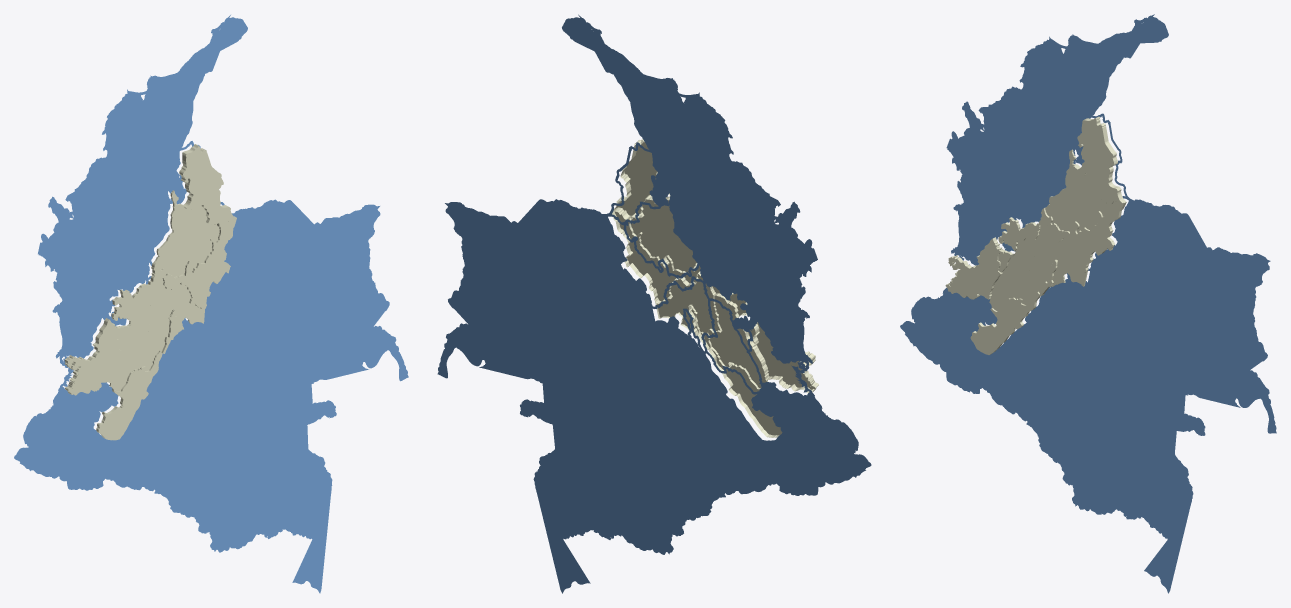
File: mapa-colombia.glb
3 renders of one model, left to right at view 1: azimuth 30°, elevation 25°; view 2: azimuth 150°, elevation 25°; view 3: azimuth 330°, elevation 25°, orthographic. The views are drawn at different scales.
Parts seen in each view (by area): view 1: Curve.010, Curve.022, Curve.040, Curve.050, Curve.006, Curve.028, Curve.044, Curve.008, Curve.004, Curve.048, Santander, Curve (+28 smaller); view 2: Curve.010, Curve.022, Curve.040, Curve.050, Curve.006, Curve.028, Curve.044, Curve.008, Curve.004, Curve.048, Curve, Curve.024 (+33 smaller); view 3: Curve.010, Curve.022, Curve.040, Curve.050, Curve.006, Curve.028, Curve.044, Curve.008, Curve.004, Curve.048, Curve, Santander (+29 smaller).
Boxes of the visible parts, box(x1,y1,x2,y2) form: Curve.010: box(169, 450, 330, 590); Curve.022: box(265, 206, 379, 352); Curve.040: box(104, 382, 266, 489); Curve.050: box(152, 283, 268, 416); Curve.006: box(276, 286, 406, 382); Curve.028: box(63, 184, 168, 298); Curve.044: box(186, 350, 304, 435); Curve.008: box(242, 373, 335, 481); Curve.004: box(39, 198, 102, 357); Curve.048: box(205, 227, 299, 313); Santander: box(154, 190, 219, 277); Curve: box(15, 414, 85, 488); Curve.010: box(535, 450, 711, 590); Curve.022: box(447, 203, 583, 352); Curve.040: box(602, 383, 773, 492); Curve.050: box(580, 283, 719, 419); Curve.006: box(439, 283, 577, 382); Curve.028: box(674, 188, 786, 302); Curve.044: box(548, 350, 679, 438); Curve.008: box(521, 372, 623, 481); Curve.004: box(755, 203, 815, 362); Curve.048: box(535, 226, 650, 315); Curve: box(794, 420, 869, 494); Curve.024: box(753, 383, 833, 464); Curve.010: box(1039, 434, 1191, 590); Curve.022: box(1150, 248, 1268, 350); Curve.040: box(985, 314, 1135, 452); Curve.050: box(1031, 269, 1153, 367); Curve.006: box(1154, 327, 1275, 432); Curve.028: box(973, 104, 1066, 226); Curve.044: box(1066, 337, 1180, 411); Curve.008: box(1115, 379, 1204, 494); Curve.004: box(948, 103, 1000, 264); Curve.048: box(1092, 222, 1192, 287); Curve: box(901, 298, 967, 383); Santander: box(1045, 149, 1107, 232).
Bounding box in the file's own units: 0.5091 × 0.6976 × 0.0839.
